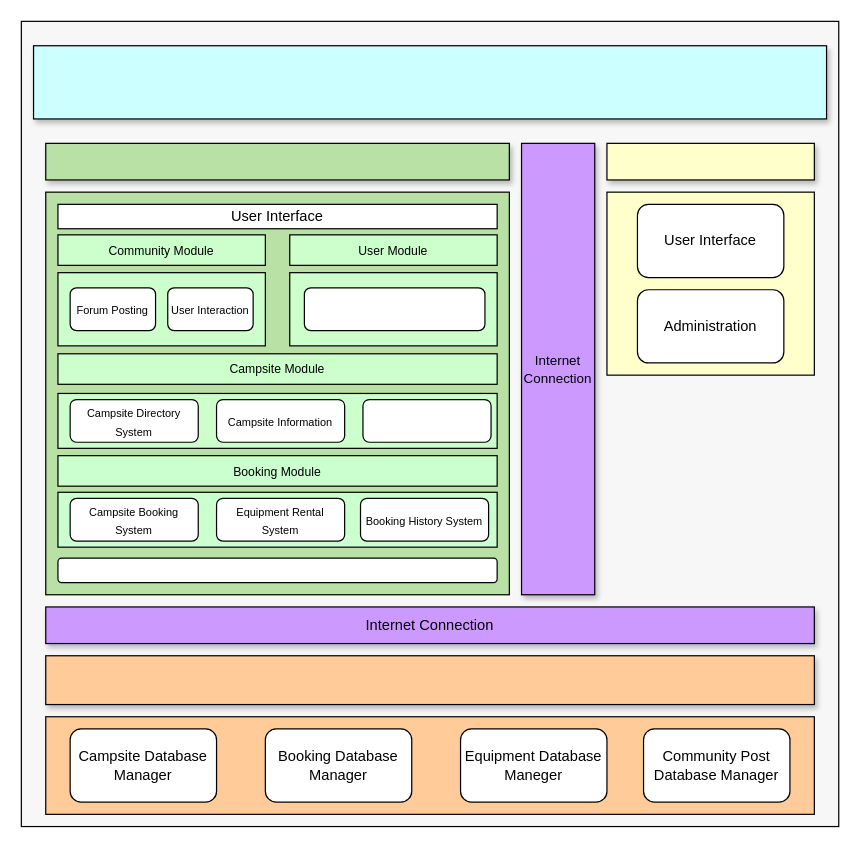
This 860x848 diagram has some shape labels left out. Here are the shapes that lost their labels. From the top down, the centre of each, then its label:
point 430,83: JomCamp
point 278,162: Mobile Application
point 711,162: Web Application
point 394,309: User Information
point 426,420: Campsite Rating
point 277,570: Campsite Alert System
point 431,681: Cloud Database Service
